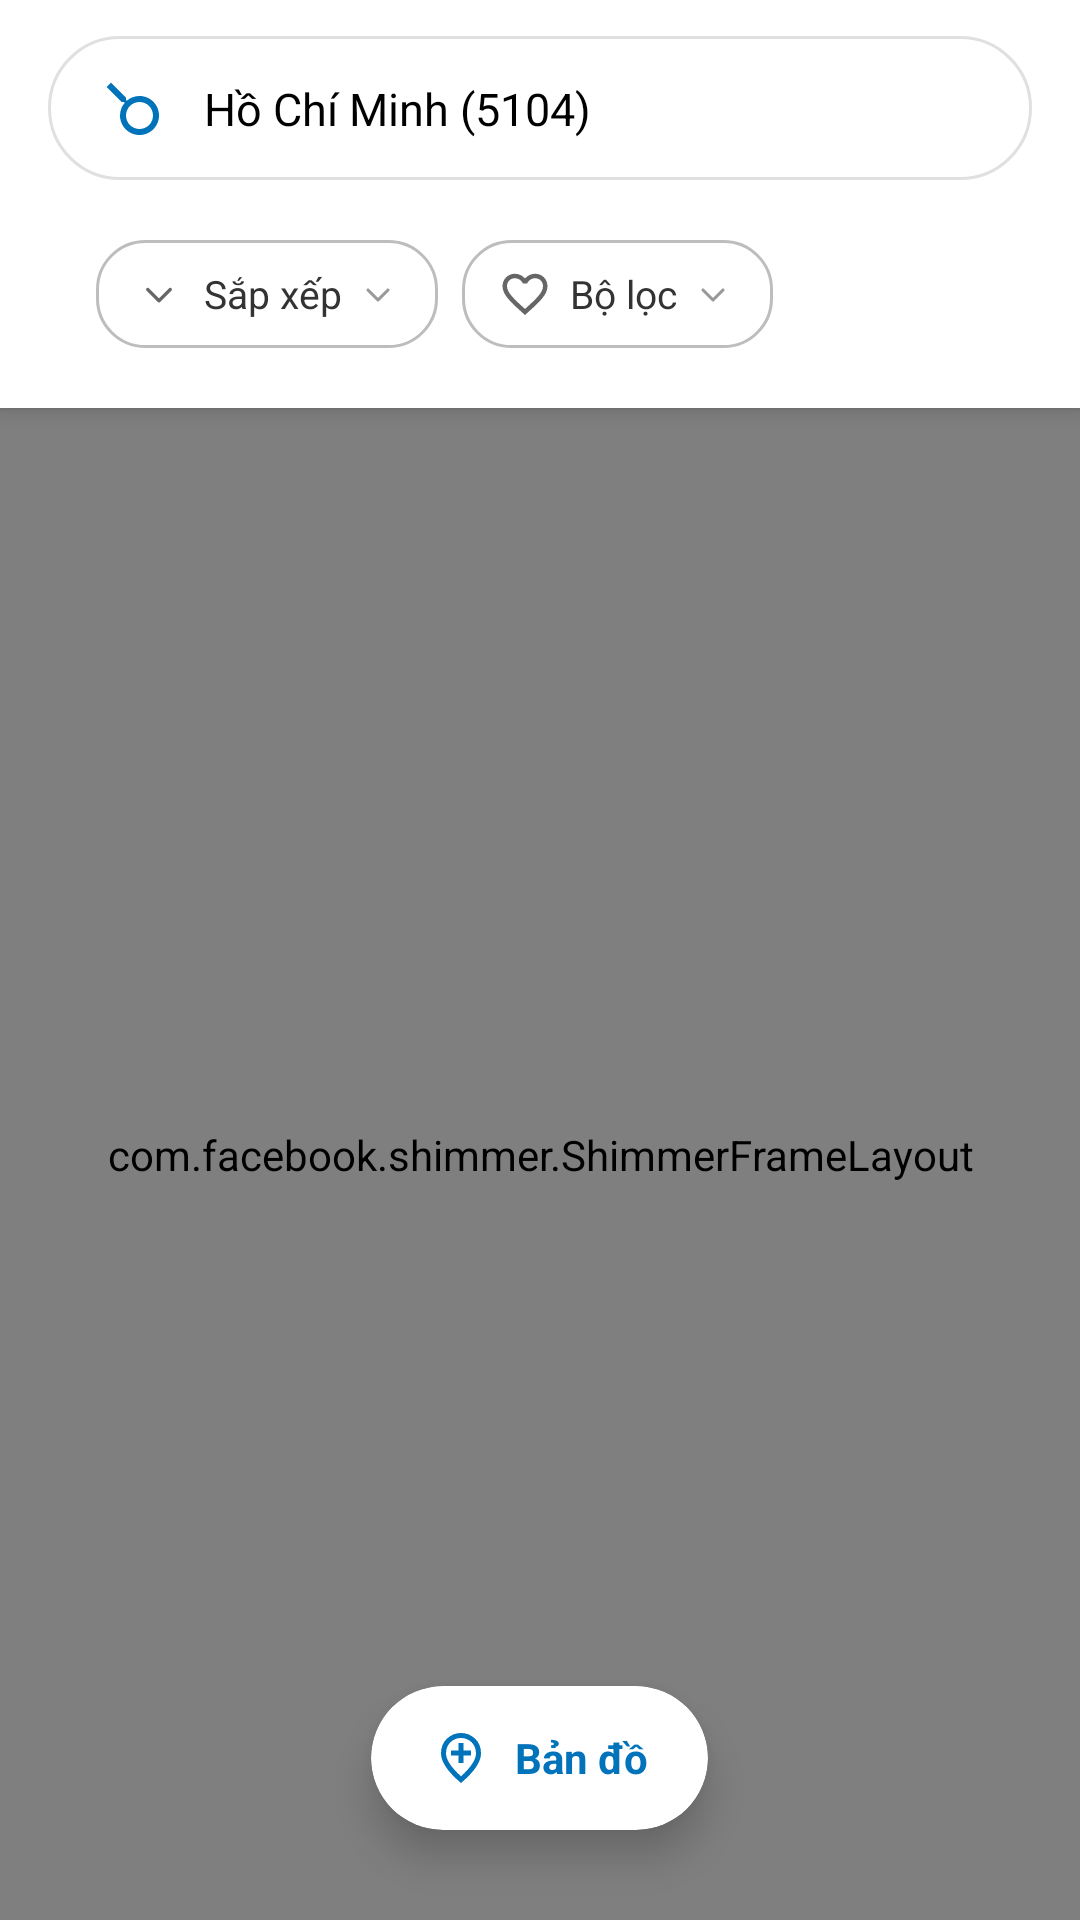

Icons on this 1080px x 1920px Android screen, each with the point to tap as [x,y]:
heart: [525,294]
keyboard arrow down: [159,295], [378,295], [713,295]
